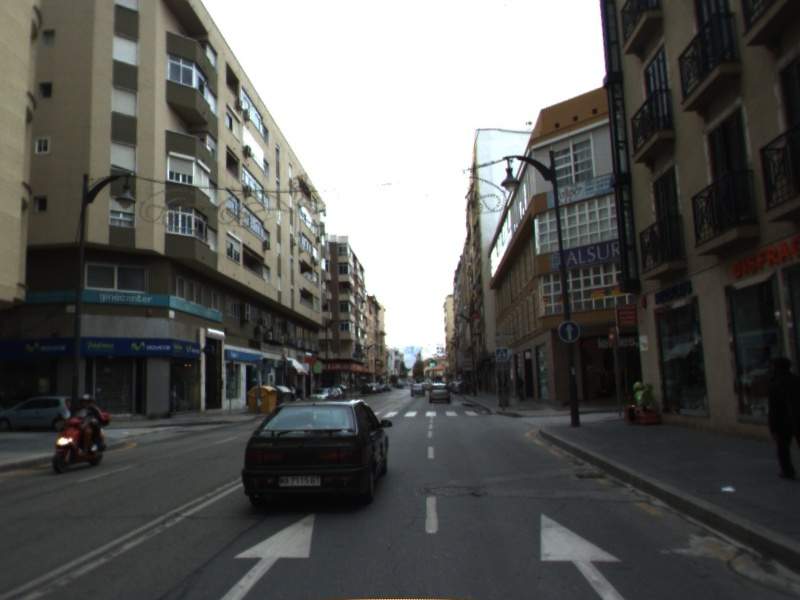STRAIGHT: (216, 505, 319, 600), (537, 510, 630, 600)
